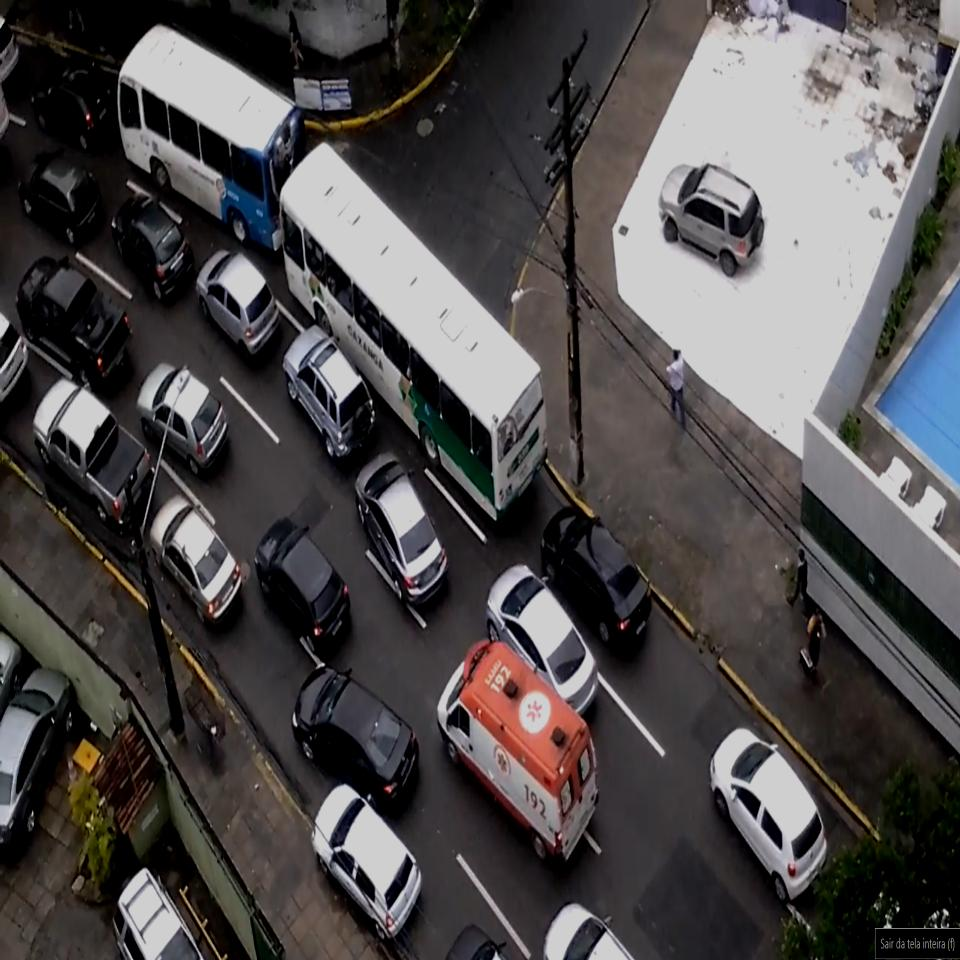ambulancia: (436, 637, 600, 869)
